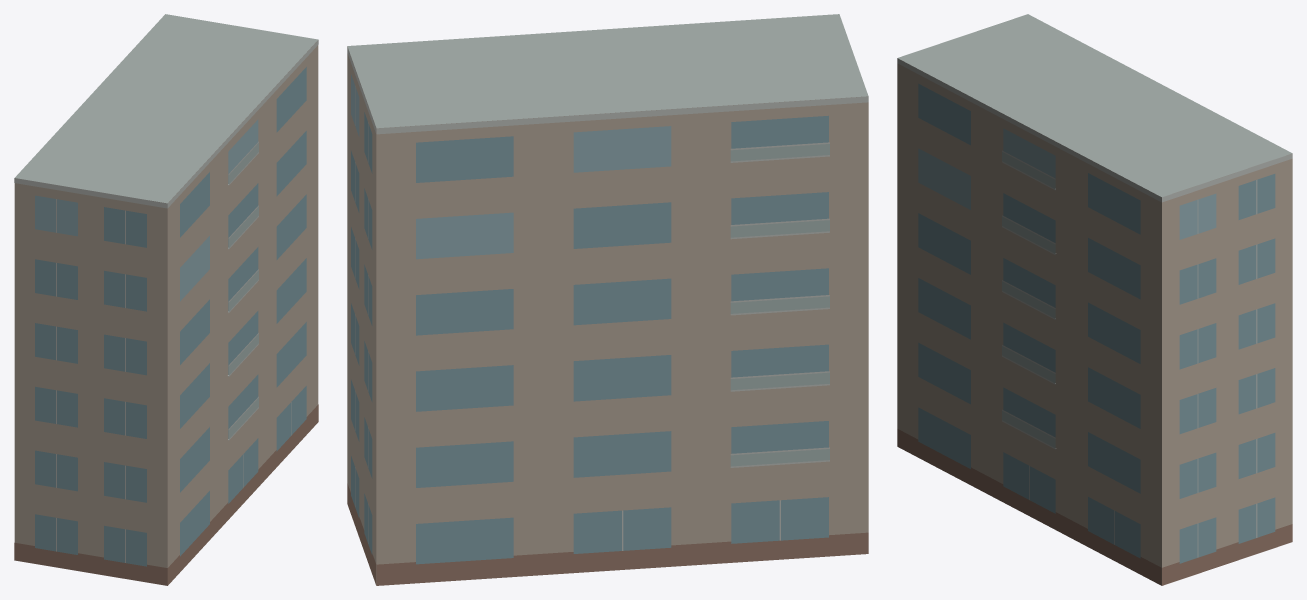
Rendered from survey-upis-33015012.glb.
3 views of the same model, side by side, from view 1: azimuth 30°, elevation 25°; view 2: azimuth 150°, elevation 25°; view 3: azimuth 270°, elevation 25° (orthographic). The views are drawn at different scales.
Visible parts, largest first — view 1: survey-upis-33015012.tmp; view 2: survey-upis-33015012.tmp; view 3: survey-upis-33015012.tmp.
Part boxes in pixels (x1,y1,x2,y2): survey-upis-33015012.tmp: (14, 14, 318, 585); survey-upis-33015012.tmp: (347, 14, 868, 585); survey-upis-33015012.tmp: (897, 14, 1292, 585).
Bounding box in the file's own units: 18.53 × 18.3 × 16.89.
